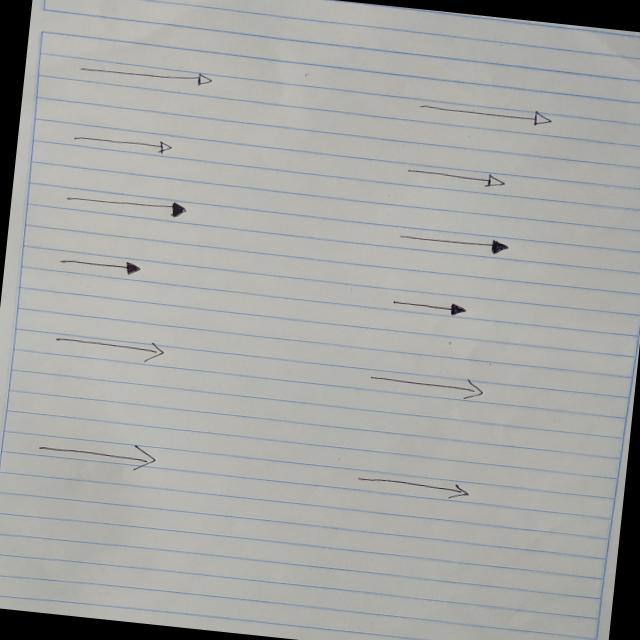arrow_line_right: (34, 433, 160, 473), (414, 95, 555, 128), (78, 57, 213, 90), (366, 365, 486, 402), (61, 187, 190, 220), (51, 328, 166, 365), (353, 468, 471, 503), (396, 226, 512, 259), (69, 127, 172, 158), (404, 162, 508, 192), (54, 252, 140, 278), (389, 293, 470, 319)
